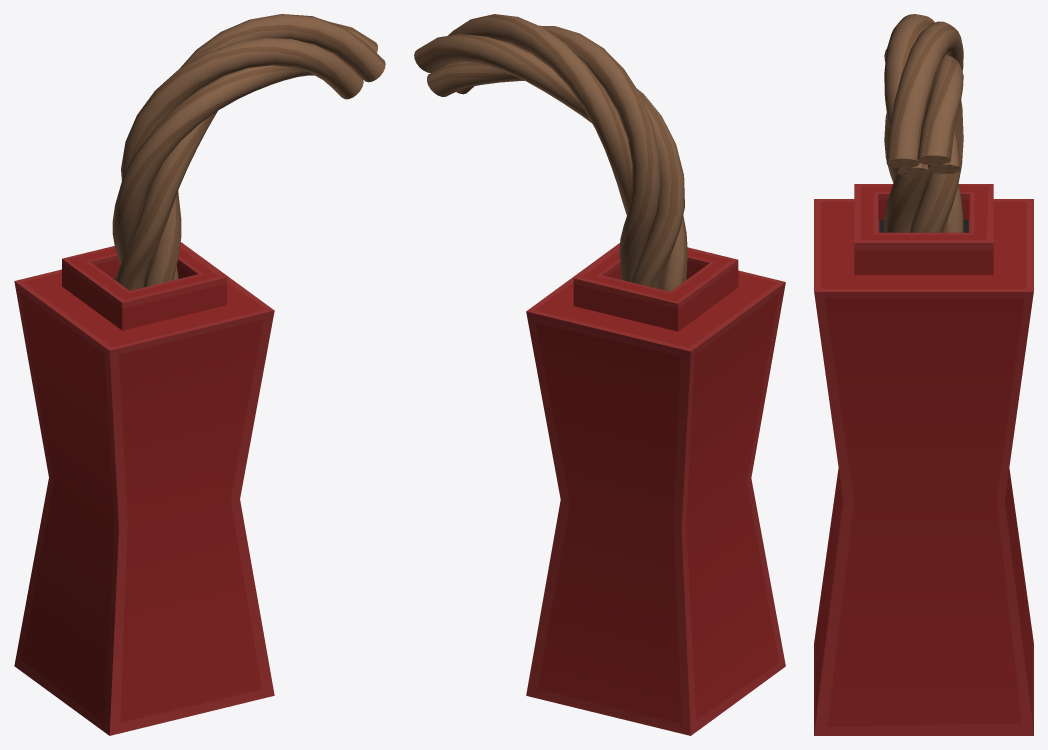
File: firecracker.fbx
The picture shows the model from 3 angles, left to right: view 1: azimuth 30°, elevation 25°; view 2: azimuth 150°, elevation 25°; view 3: azimuth 270°, elevation 25°; orthographic projection. The views are drawn at different scales.
Parts seen in each view (by area): view 1: Dynamite; view 2: Dynamite; view 3: Dynamite.
Part boxes in pixels (box(x1,y1,x2,y2)): Dynamite: box(14, 14, 385, 735); Dynamite: box(414, 14, 785, 735); Dynamite: box(814, 14, 1033, 735).
Size of the model in its own units: 55.19 by 105 by 28.64.
2 materials, 2 textured.
